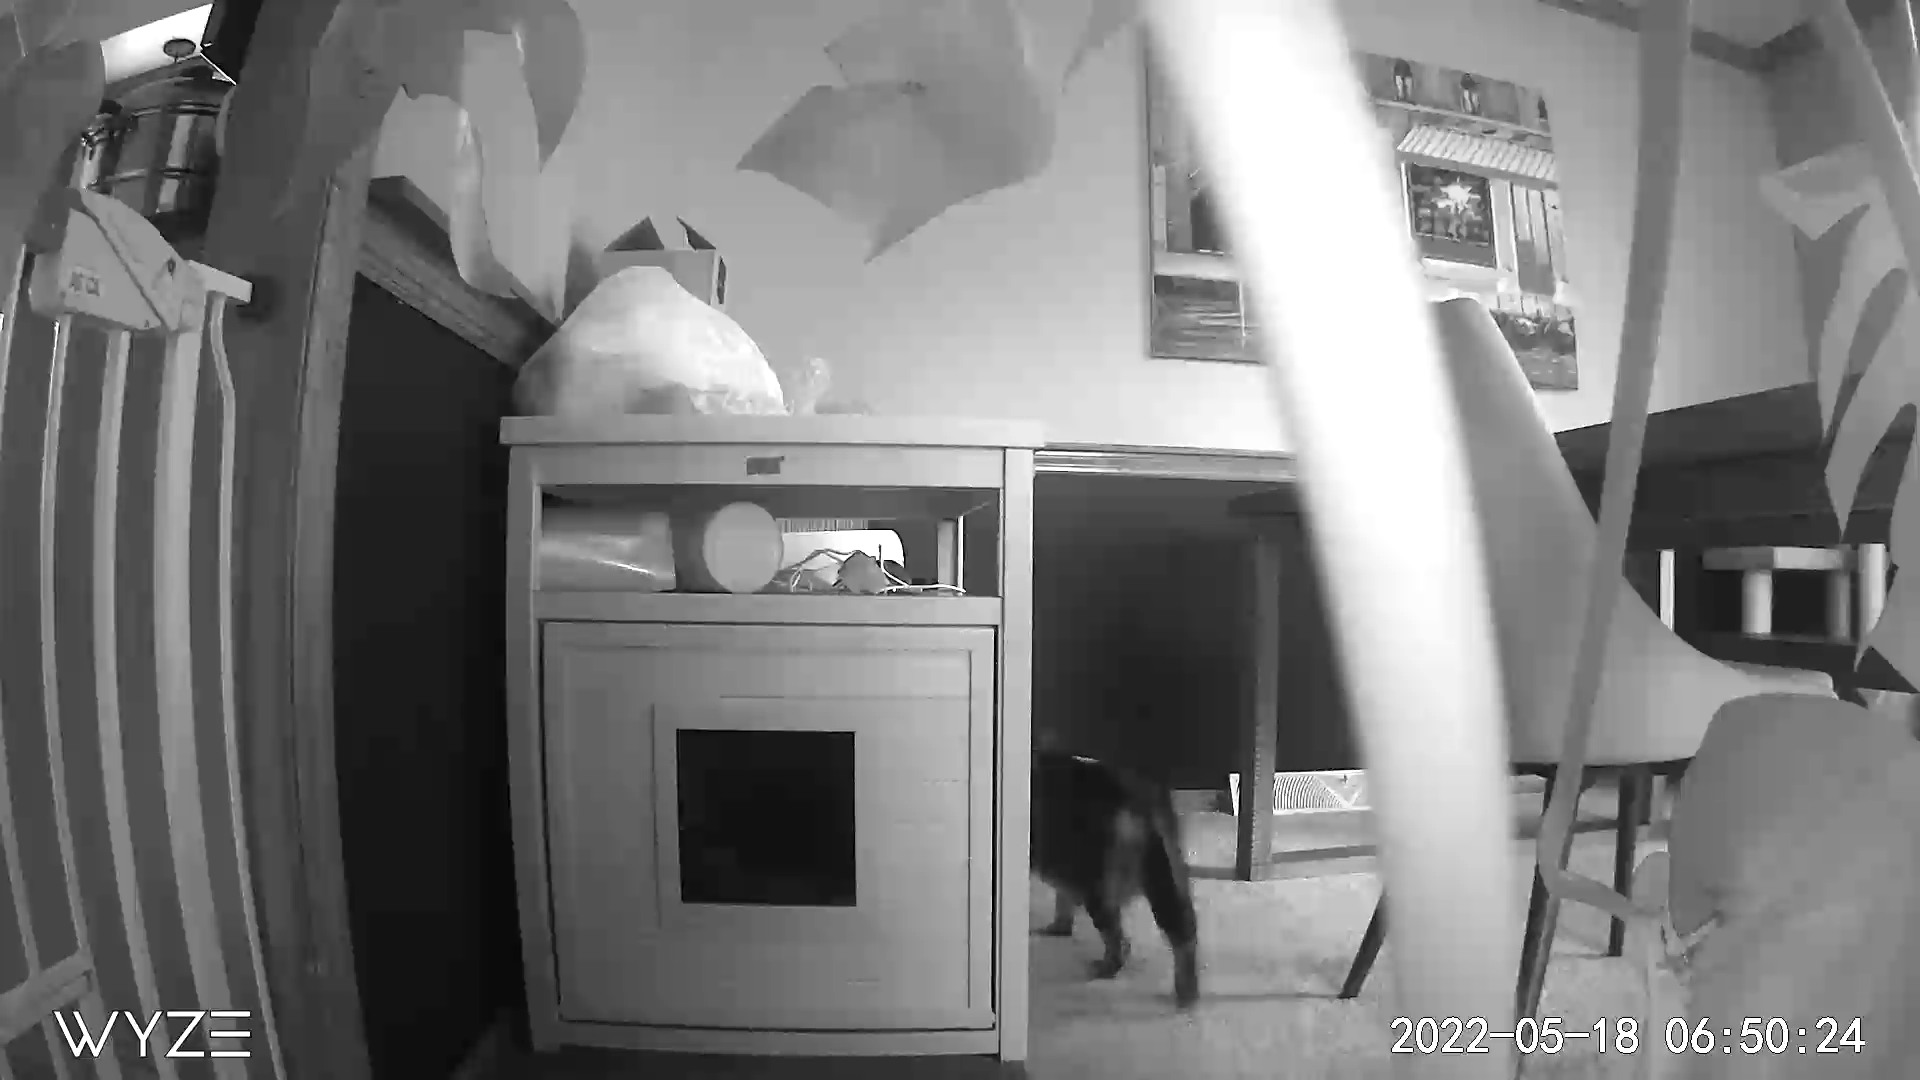sparky: (1031, 746, 1228, 1025)
